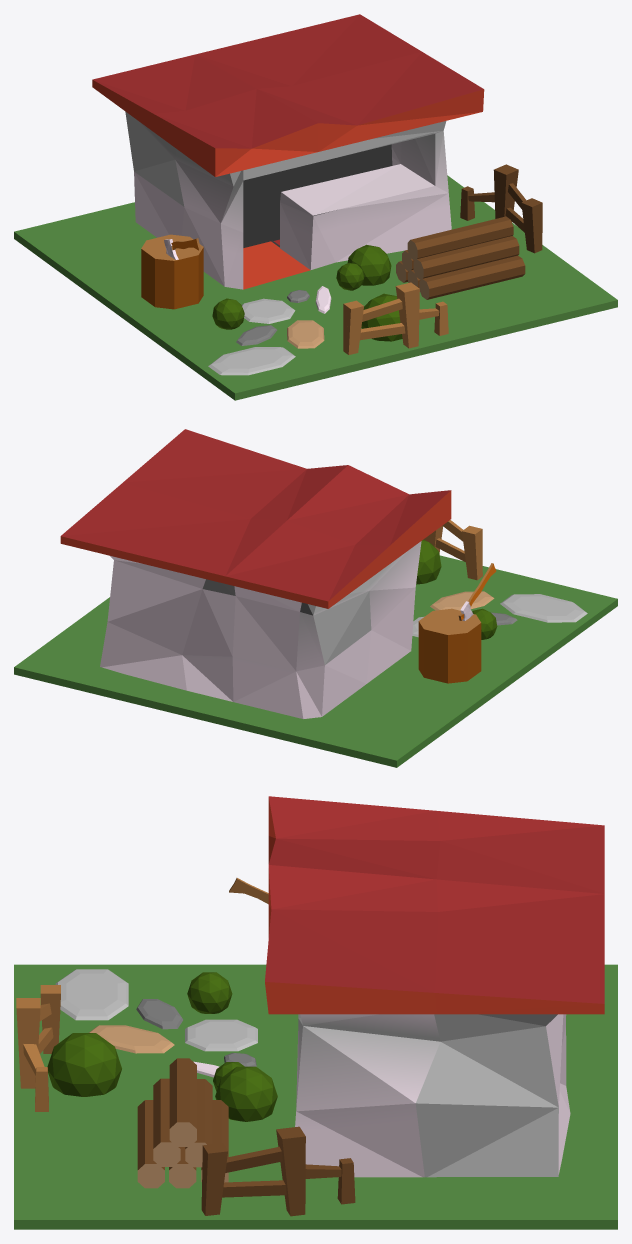
Rendered from Lumber.fbx.
The picture shows the model from 3 angles, top to bottom: view 1: azimuth 30°, elevation 25°; view 2: azimuth 150°, elevation 25°; view 3: azimuth 270°, elevation 25°; orthographic projection. The views are drawn at different scales.
Visible parts, largest first — view 1: Cube; view 2: Cube; view 3: Cube.
Boxes of the visible parts, x1,y1,x2,y2 form: Cube: (14, 14, 617, 400); Cube: (14, 429, 617, 767); Cube: (14, 796, 617, 1229).
Bounding box in the file's own units: 535 × 232 × 535.
